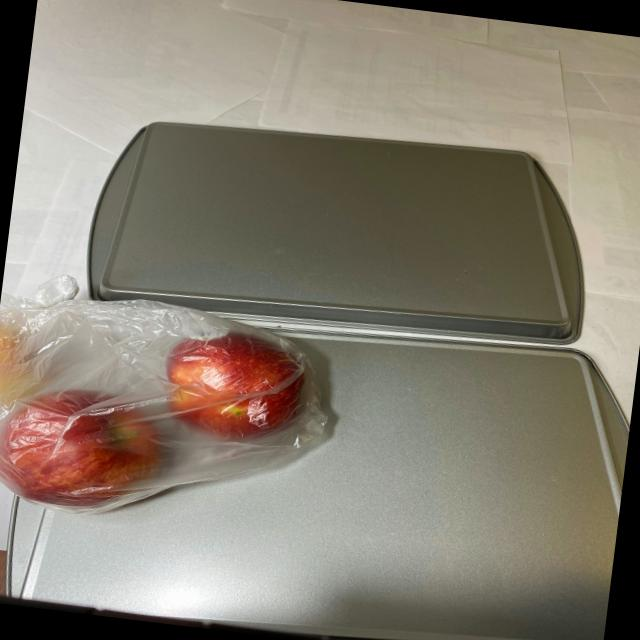apple: (0, 299, 316, 542)
